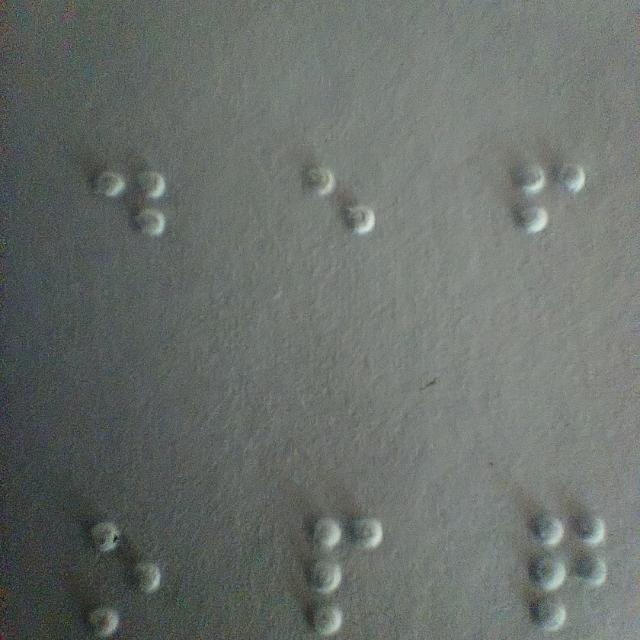d: (86, 162, 169, 290)
e: (297, 163, 380, 292)
f: (506, 159, 588, 288)
o: (81, 511, 164, 640)
p: (304, 511, 387, 640)
q: (527, 506, 609, 635)
